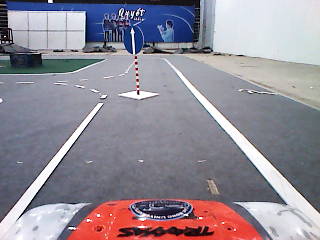straight: (121, 24, 146, 56)
